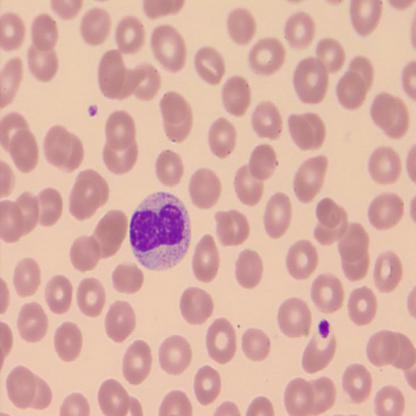Metamyelocyte: (127, 188, 194, 275)
